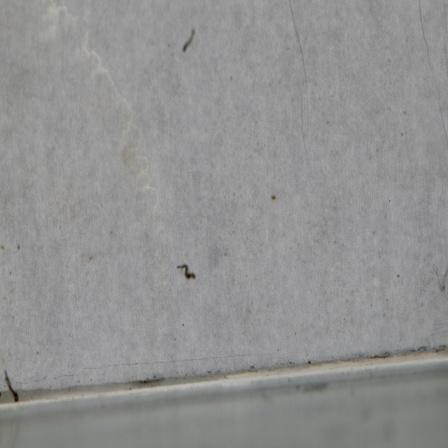Jentik-Nyamuk: (0, 367, 22, 406), (174, 258, 200, 286), (179, 25, 197, 53)
